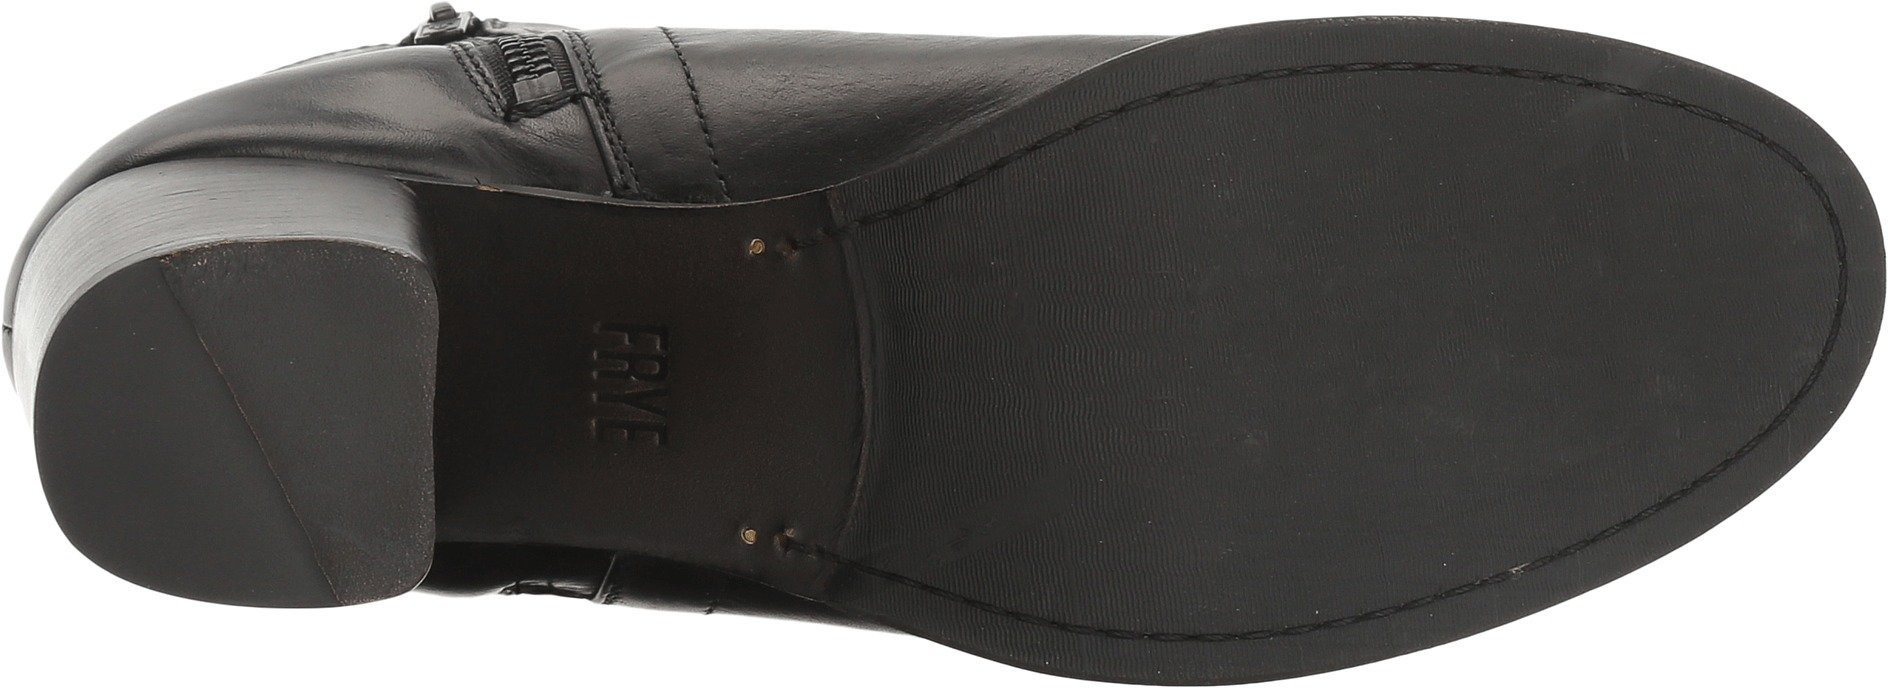other: (1182, 123, 1516, 416), (884, 225, 1190, 499), (119, 296, 400, 571), (1526, 143, 1793, 416), (1196, 424, 1397, 618)
